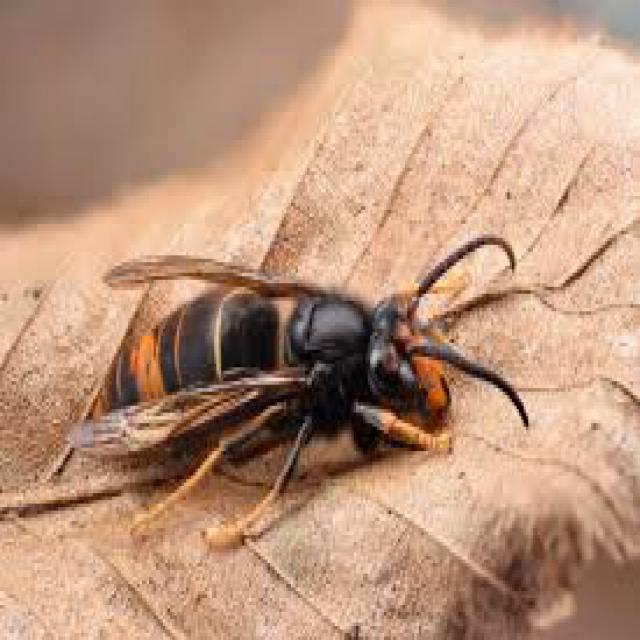Vespa Orientalis: (52, 177, 551, 566)
